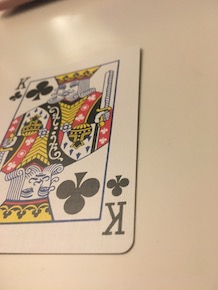KingOfClubs: (1, 44, 144, 257)
